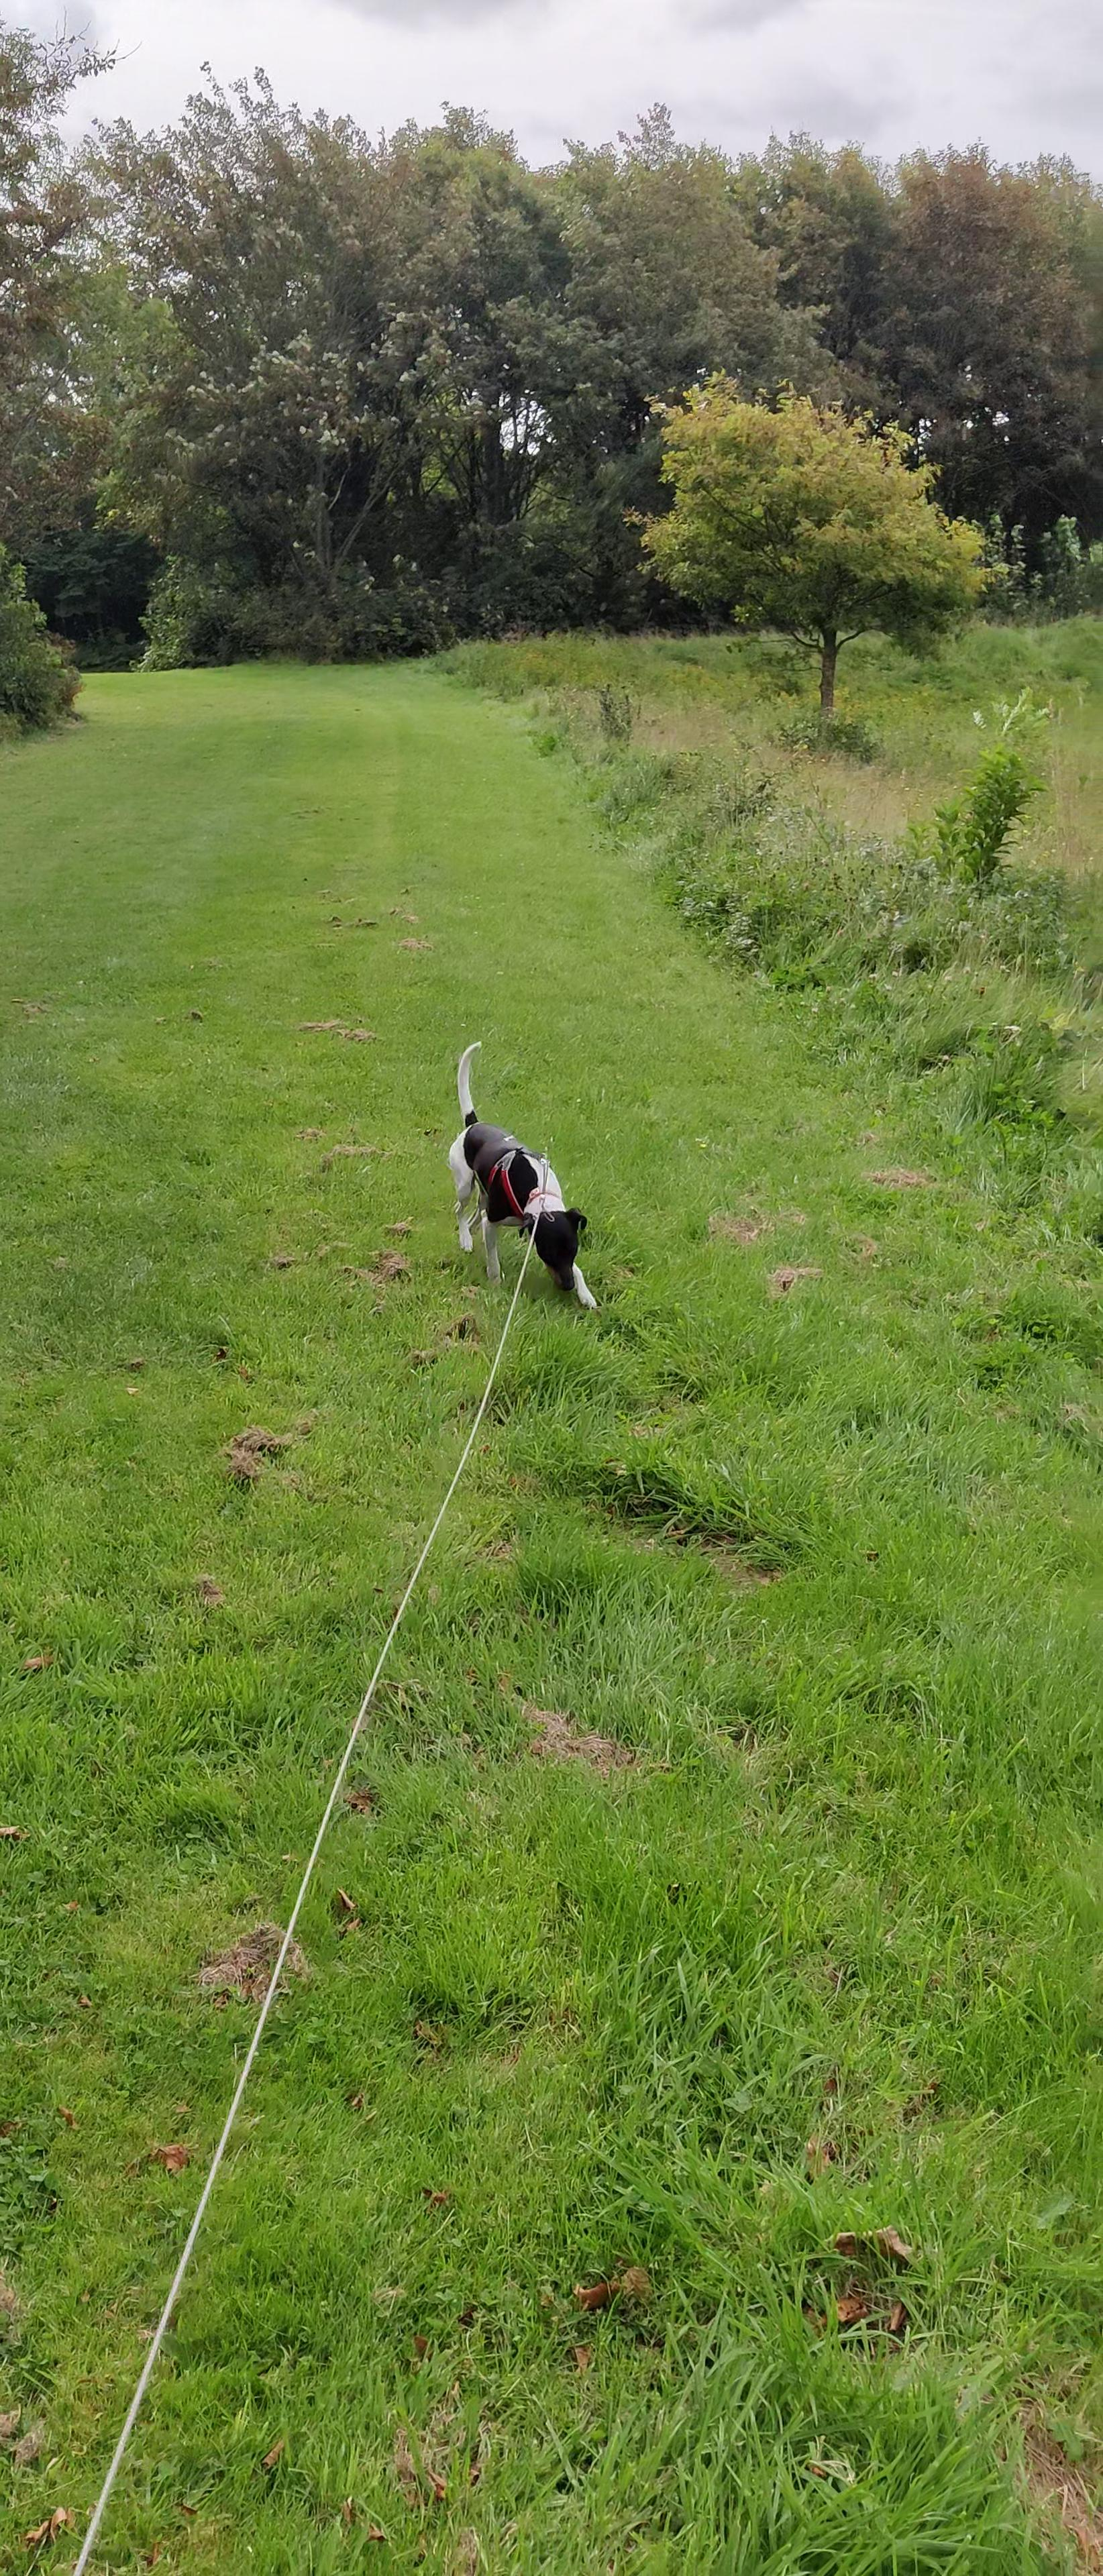Dog: (444, 1035, 610, 1316)
